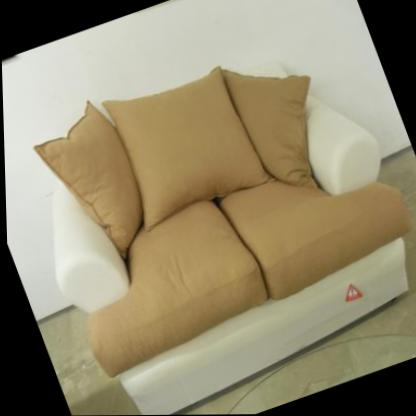Sofa: (0, 13, 416, 416)
